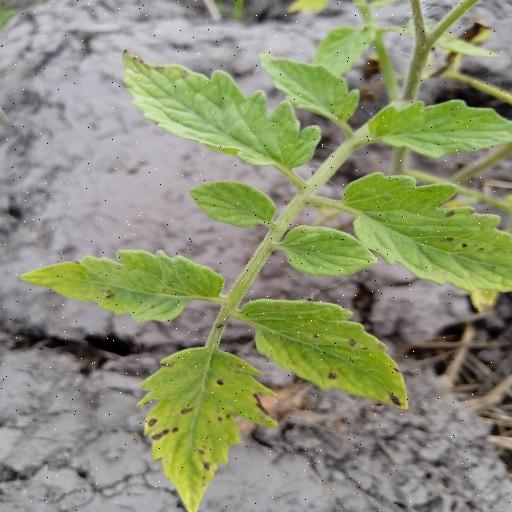Tomato_Brown_Spots: (119, 44, 325, 172), (137, 342, 278, 512), (335, 170, 512, 296), (238, 296, 416, 412), (17, 246, 233, 324), (350, 97, 512, 160)
